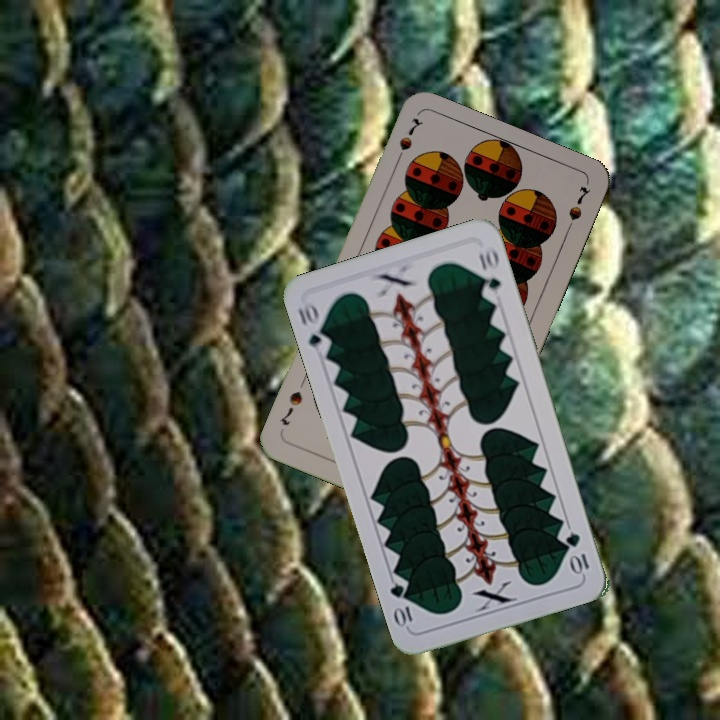G10: (294, 297, 334, 354), (562, 528, 592, 577)
S7: (390, 114, 425, 169)
